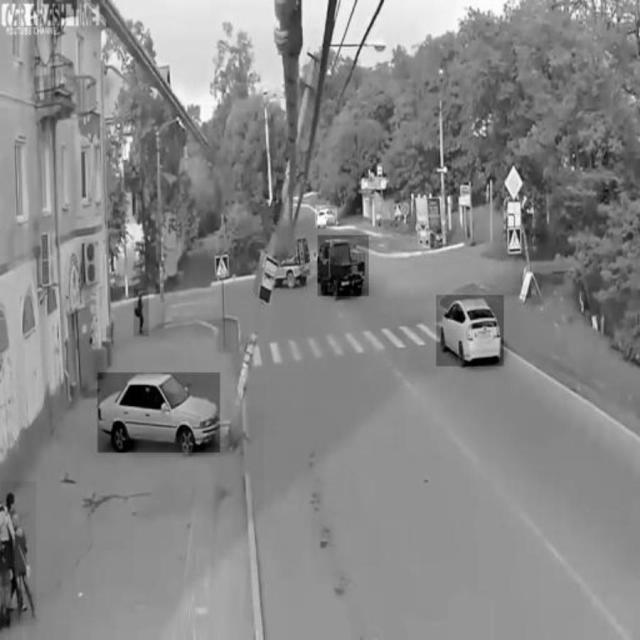person: (1, 482, 36, 626), (134, 289, 149, 336)
vehicle: (97, 373, 221, 453), (437, 295, 504, 366), (318, 236, 369, 297), (315, 205, 339, 227)
